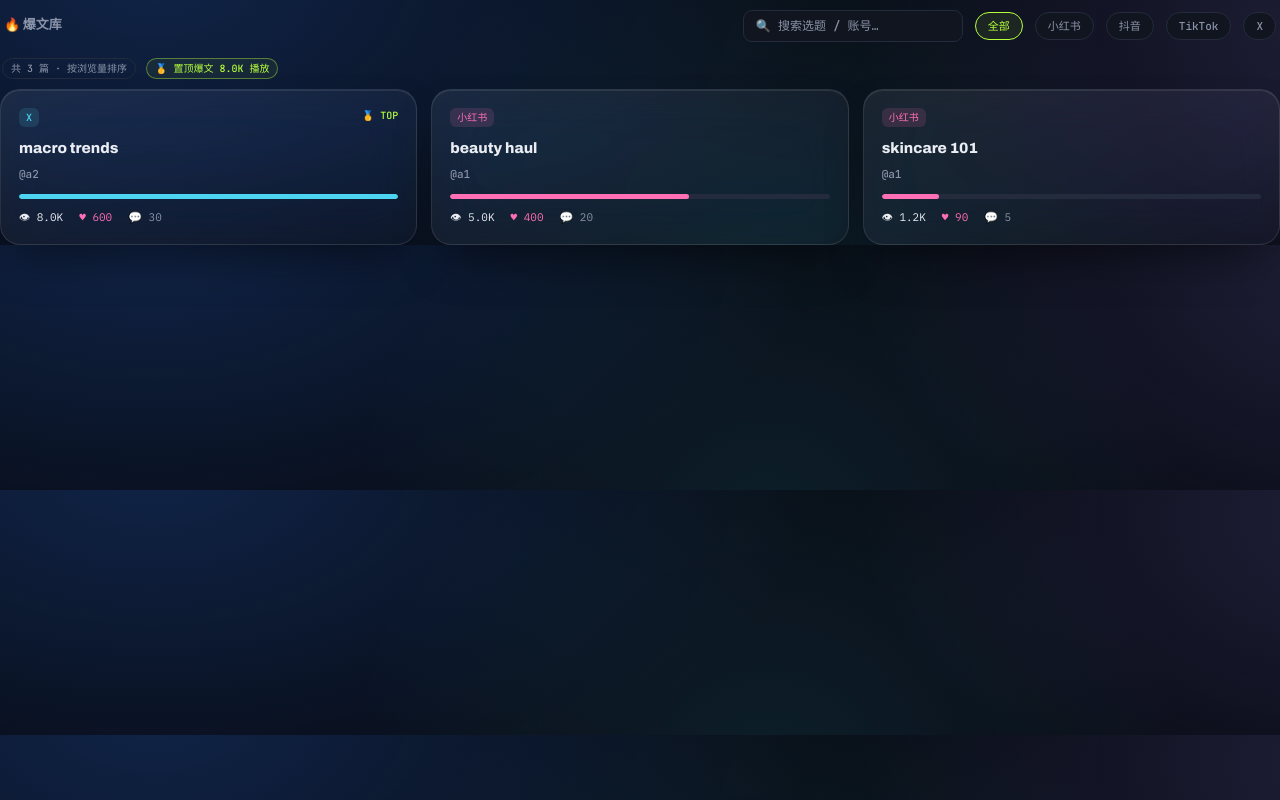
Test: filters by platform chip
Expected: the text "macro trends" is shown, top-left (19, 140), bottom-right (118, 156)
Click the button "小红书".
click(1064, 26)  # box top-left (1035, 12), bottom-right (1094, 40)
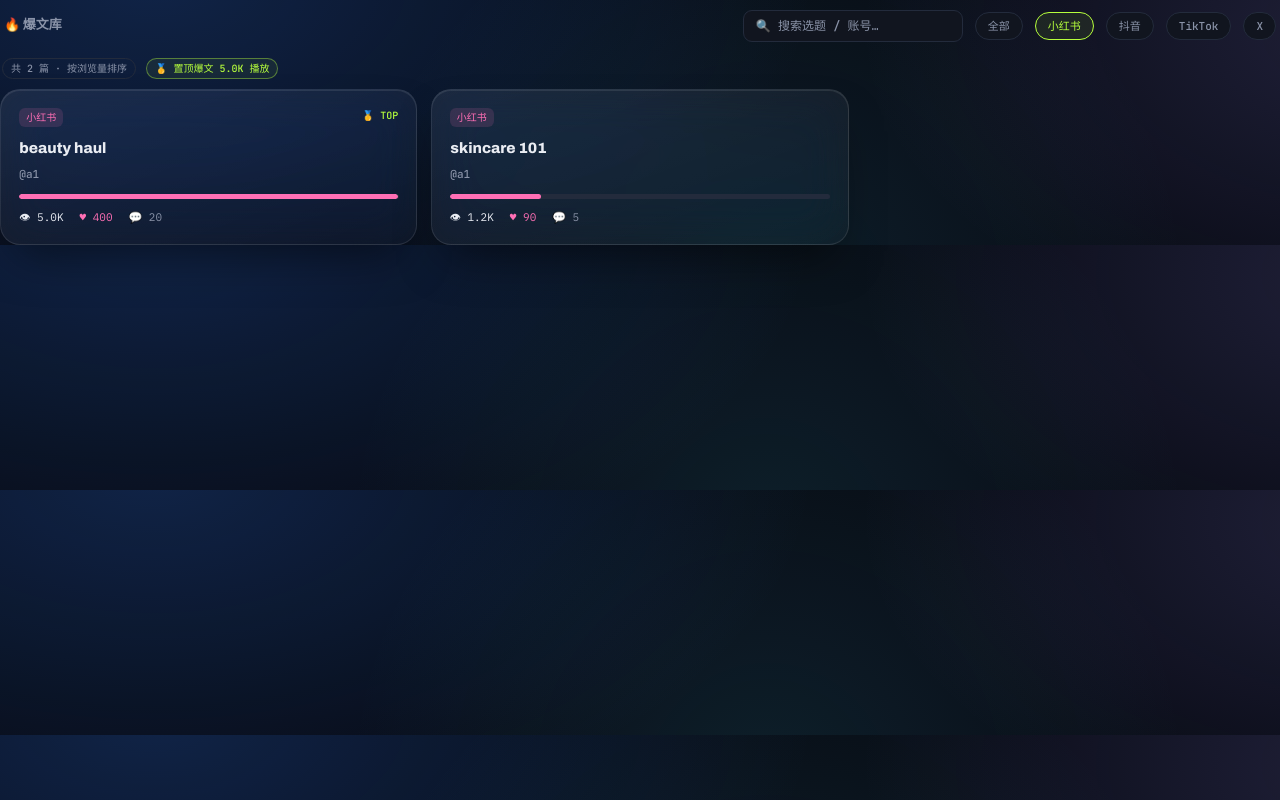
Expected: the text "beauty haul" is shown, top-left (19, 140), bottom-right (106, 156)
Result: the text "macro trends" is gone
